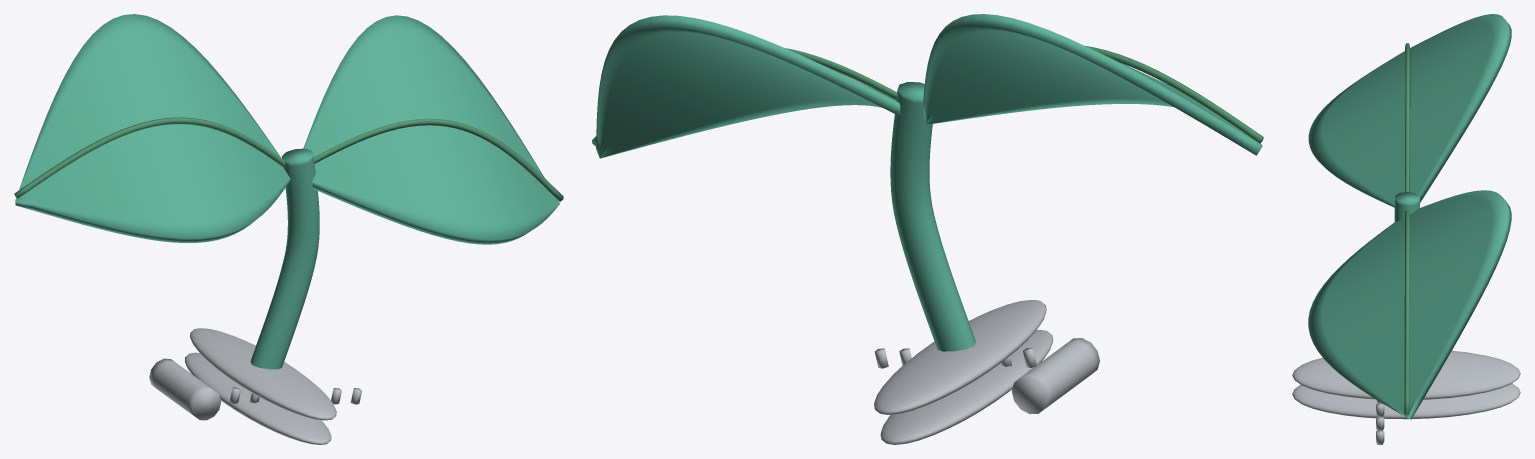
File: Masculine-middle-part-pashmina261-sprout.glb
3 renders of one model, left to right at view 1: azimuth 30°, elevation 25°; view 2: azimuth 150°, elevation 25°; view 3: azimuth 270°, elevation 25°, orthographic. The views are drawn at different scales.
Visible parts, largest first — view 1: 226 extra / Accessory / mint226, 226 extra / Sprout / clip silver235, 226 extra / Sprout / leaf vein235; view 2: 226 extra / Accessory / mint226, 226 extra / Sprout / clip silver235, 226 extra / Sprout / leaf vein235; view 3: 226 extra / Accessory / mint226, 226 extra / Sprout / clip silver235, 226 extra / Sprout / leaf vein235.
Boxes of the visible parts, <box> form: 226 extra / Accessory / mint226: <box>15,14,560,369</box>; 226 extra / Sprout / clip silver235: <box>149,328,361,444</box>; 226 extra / Sprout / leaf vein235: <box>14,117,563,201</box>; 226 extra / Accessory / mint226: <box>596,14,1262,351</box>; 226 extra / Sprout / clip silver235: <box>874,300,1099,444</box>; 226 extra / Sprout / leaf vein235: <box>592,46,1263,146</box>; 226 extra / Accessory / mint226: <box>1308,14,1511,419</box>; 226 extra / Sprout / clip silver235: <box>1292,350,1520,444</box>; 226 extra / Sprout / leaf vein235: <box>1404,43,1410,414</box>.
Bounding box in the file's own units: 0.2643 × 0.1741 × 0.104.
